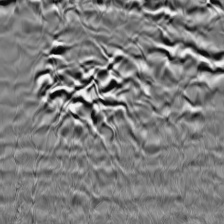cavities: (37, 44, 154, 136)
